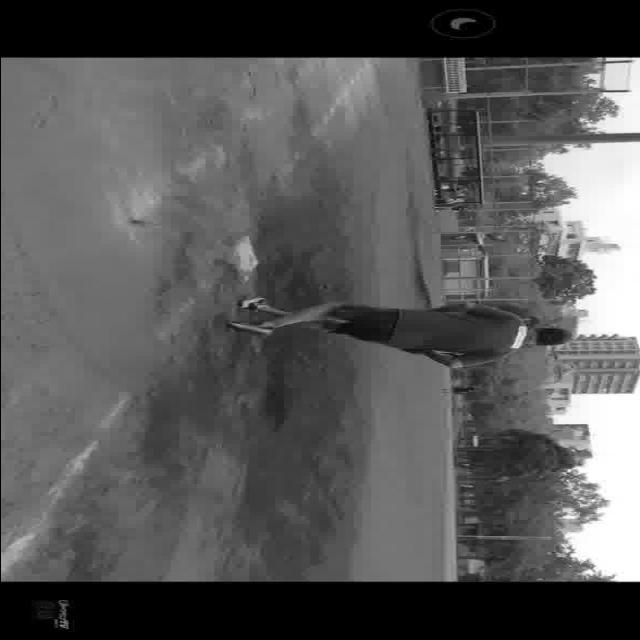base: (215, 230, 269, 286)
shoe: (218, 319, 274, 337), (231, 294, 267, 316)
